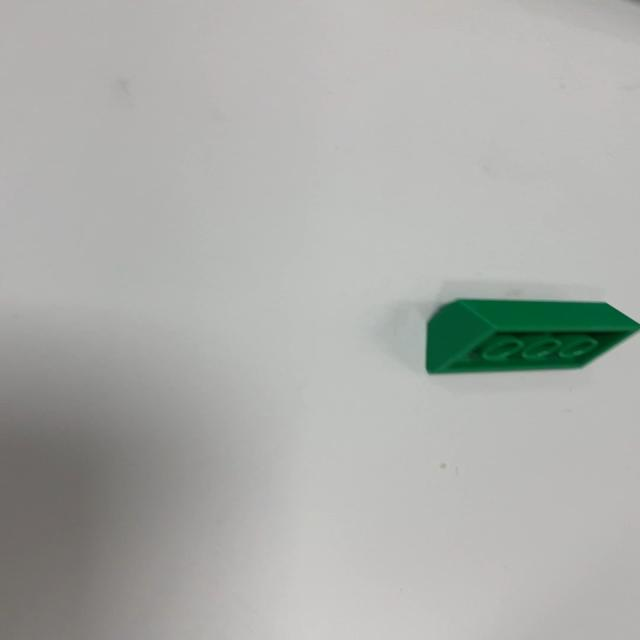P4x2x1: (424, 296, 638, 374)
